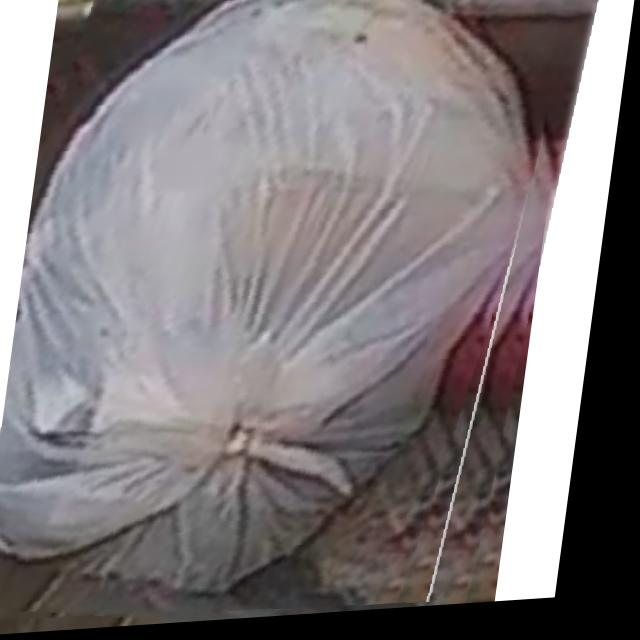other_trashbag: (5, 0, 541, 620)
